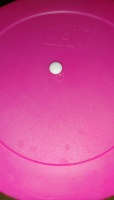Yuvarlak Buskopan: (49, 60, 63, 75)
